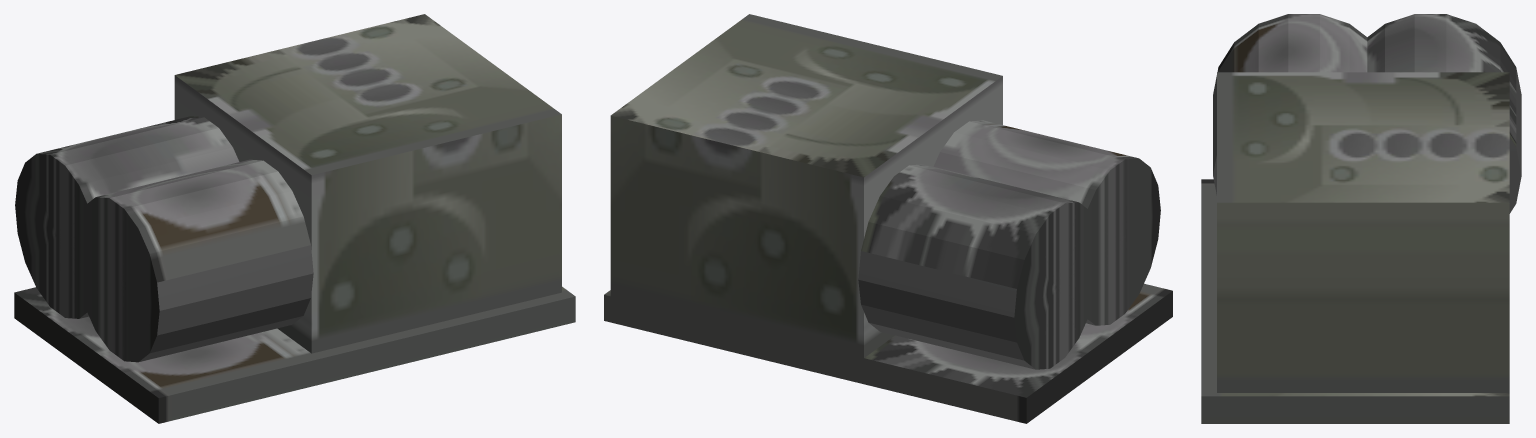
The model's file is Building_Electroharvester.obj.
3 views of the same model, side by side, from view 1: azimuth 30°, elevation 25°; view 2: azimuth 150°, elevation 25°; view 3: azimuth 270°, elevation 25° (orthographic). The views are drawn at different scales.
Parts seen in each view (by area): view 1: Body; view 2: Body; view 3: Body.
Boxes of the visible parts, x1,y1,x2,y2 form: Body: (14,14,575,423); Body: (604,14,1172,423); Body: (1201,14,1521,423).
Bounding box in the file's own units: 2.03 × 0.95 × 1.27.
1 material, 1 textured.
